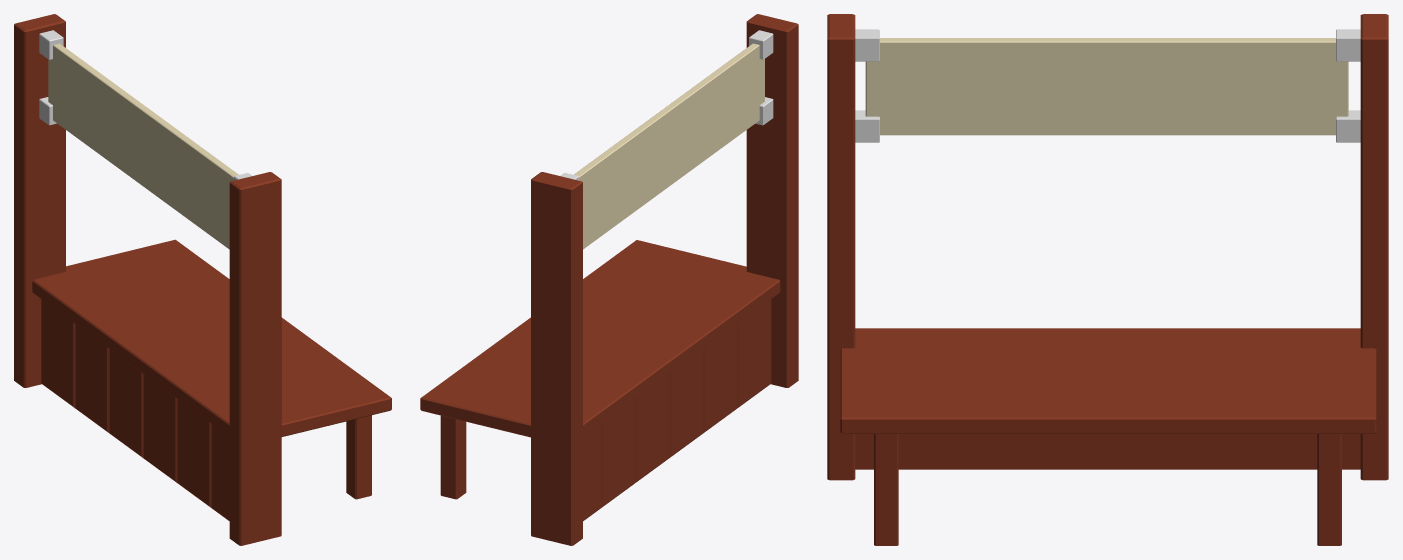
Rendered from Kiosk00(4).fbx.
The picture shows the model from 3 angles, left to right: view 1: azimuth 30°, elevation 25°; view 2: azimuth 150°, elevation 25°; view 3: azimuth 270°, elevation 25°; orthographic projection. The views are drawn at different scales.
Parts seen in each view (by area): view 1: Kiosk; view 2: Kiosk; view 3: Kiosk.
Boxes of the visible parts, x1,y1,x2,y2 form: Kiosk: (14,14,391,545); Kiosk: (420,14,798,545); Kiosk: (827,14,1388,545).
Size of the model in its own units: 241 by 521 by 600.
